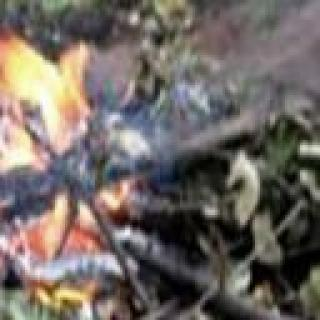fire: (0, 24, 142, 320)
